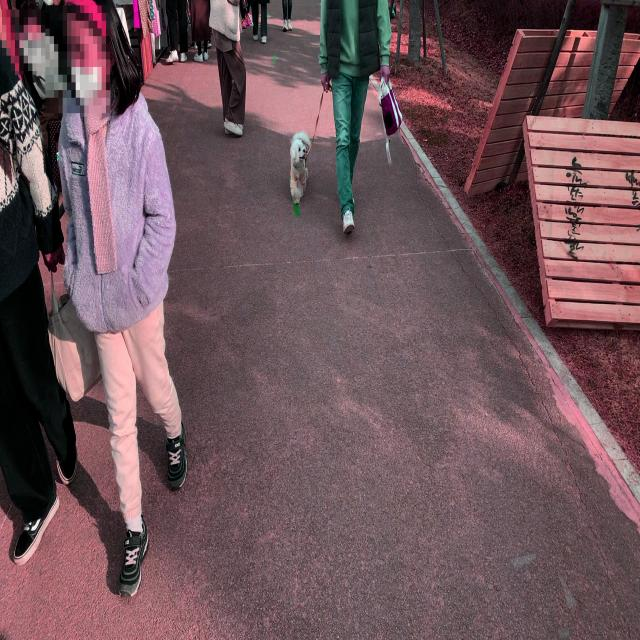Leashed_Dog: (288, 58, 350, 206)
